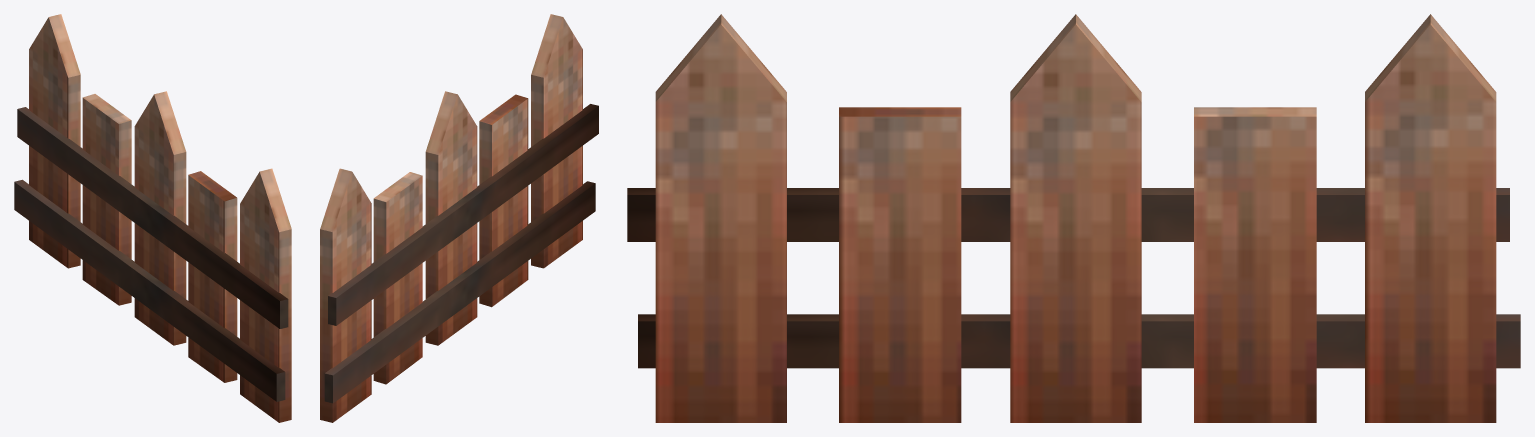
File: Fence.fbx
The picture shows the model from 3 angles, left to right: view 1: azimuth 30°, elevation 25°; view 2: azimuth 150°, elevation 25°; view 3: azimuth 270°, elevation 25°; orthographic projection. The views are drawn at different scales.
Visible parts, largest first — view 1: Fense; view 2: Fense; view 3: Fense.
Boxes of the visible parts, x1,y1,x2,y2 form: Fense: (14, 14, 291, 422); Fense: (320, 14, 598, 422); Fense: (627, 14, 1520, 422).
Bounding box in the file's own units: 22.25 × 249 × 505.
